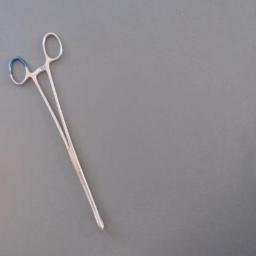Sponge Forceps: (5, 28, 113, 238)
